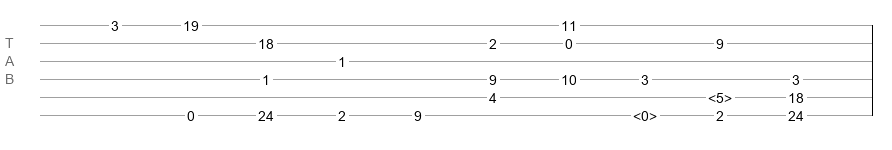0: (187, 108, 195, 118), (565, 36, 573, 46)
1: (262, 72, 270, 82), (338, 54, 346, 64)
10: (561, 72, 577, 82)
11: (561, 18, 577, 28)
18: (258, 36, 274, 46), (788, 90, 804, 100)
19: (183, 18, 199, 28)
2: (338, 108, 346, 118), (489, 36, 497, 46), (716, 108, 724, 118)
24: (258, 108, 274, 118), (788, 108, 804, 118)
3: (111, 18, 119, 28), (641, 72, 649, 82), (792, 72, 800, 82)
4: (489, 90, 497, 100)
9: (414, 108, 422, 118), (489, 72, 497, 82), (716, 36, 724, 46)
harmonic: (633, 108, 657, 118), (708, 90, 732, 100)
